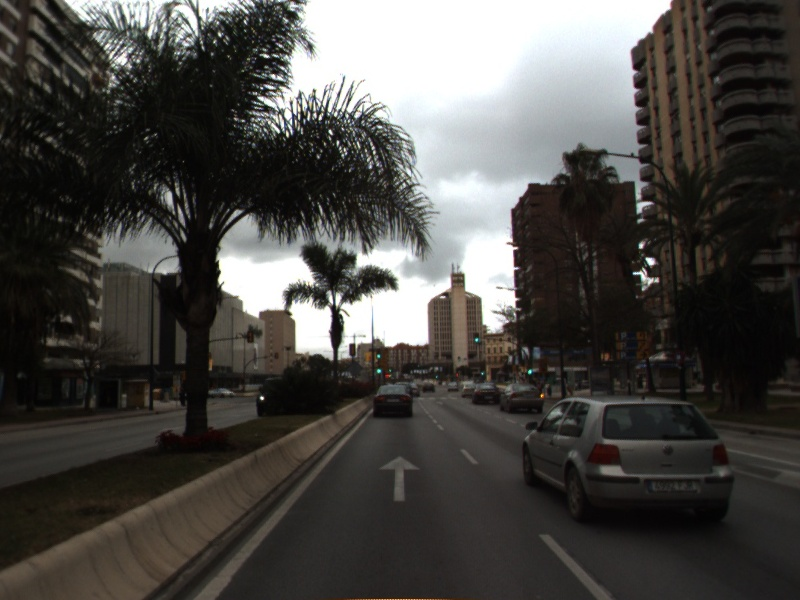STRAIGHT: (376, 453, 423, 504)
STRAIGHT_RIGHT: (725, 458, 800, 492)
